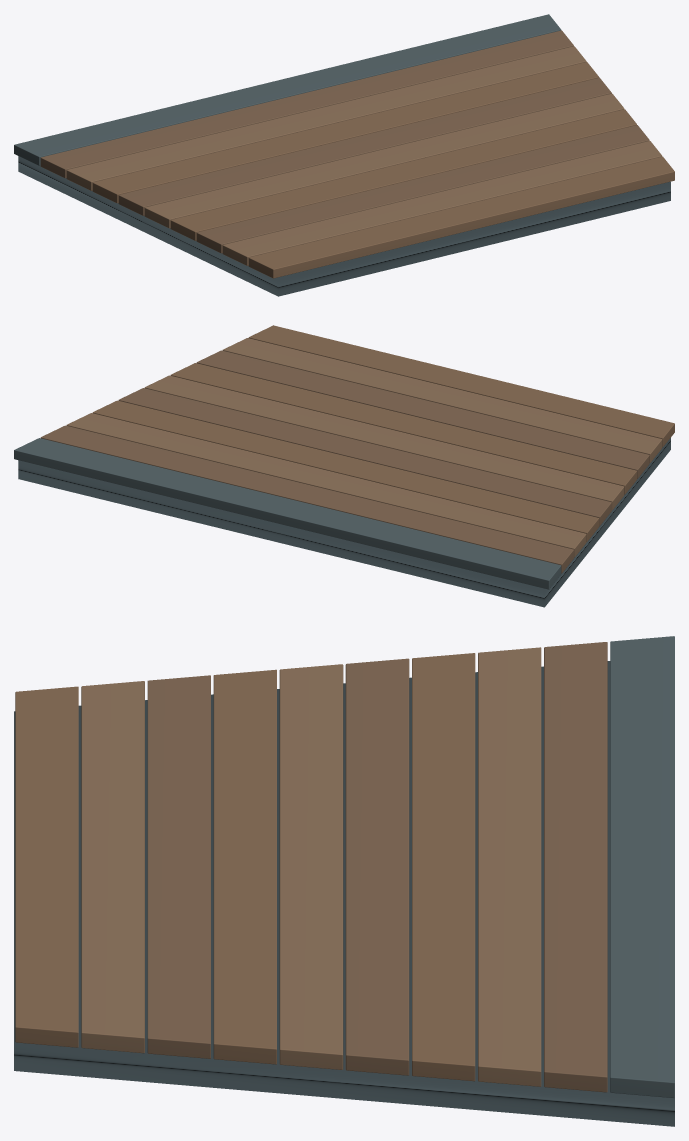
Rendered from city_boardwalk_05.glb.
3 views of the same model, one above another, from view 1: azimuth 30°, elevation 25°; view 2: azimuth 150°, elevation 25°; view 3: azimuth 270°, elevation 25° (orthographic). The views are drawn at different scales.
Parts seen in each view (by area): view 1: CityBoardwalk05_Mesh; view 2: CityBoardwalk05_Mesh; view 3: CityBoardwalk05_Mesh.
Part boxes in pixels (x1,y1,x2,y2): CityBoardwalk05_Mesh: (14, 14, 674, 296); CityBoardwalk05_Mesh: (14, 325, 674, 607); CityBoardwalk05_Mesh: (14, 636, 674, 1126).
Bounding box in the file's own units: 4.8 × 0.24 × 3.
